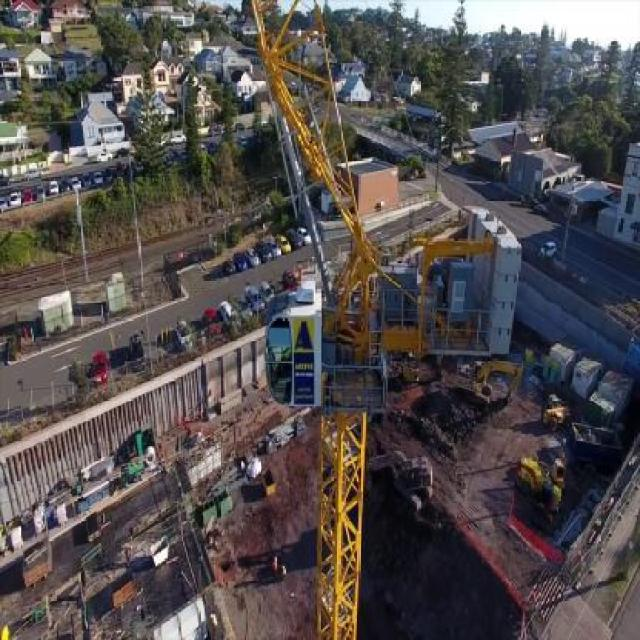excavator: (443, 359, 520, 415)
